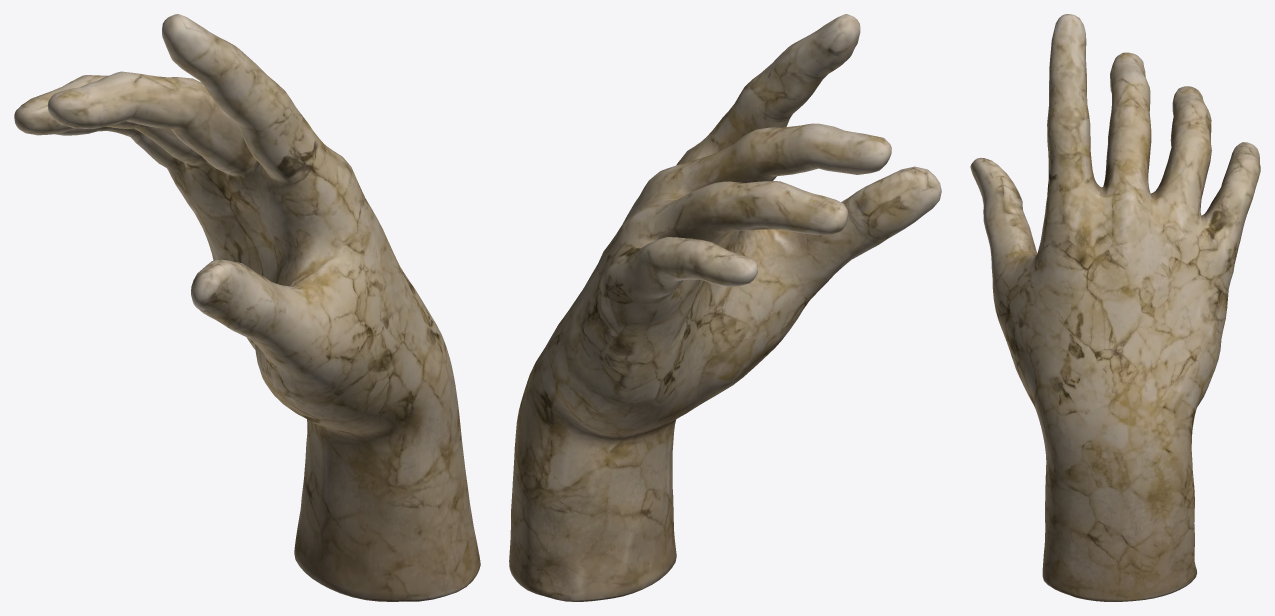
File: hand_sculpture.glb
The picture shows the model from 3 angles, left to right: view 1: azimuth 30°, elevation 25°; view 2: azimuth 150°, elevation 25°; view 3: azimuth 270°, elevation 25°; orthographic projection. The views are drawn at different scales.
Visible parts, largest first — view 1: hand_low_hand.001_0; view 2: hand_low_hand.001_0; view 3: hand_low_hand.001_0.
Part boxes in pixels (x1=…): hand_low_hand.001_0: x1=14, y1=14, x2=480, y2=601; hand_low_hand.001_0: x1=509, y1=14, x2=941, y2=601; hand_low_hand.001_0: x1=970, y1=14, x2=1260, y2=601.
Size of the model in its own units: 0.4091 by 0.6036 by 0.337.
Materials: 1 (1 with a texture image).
